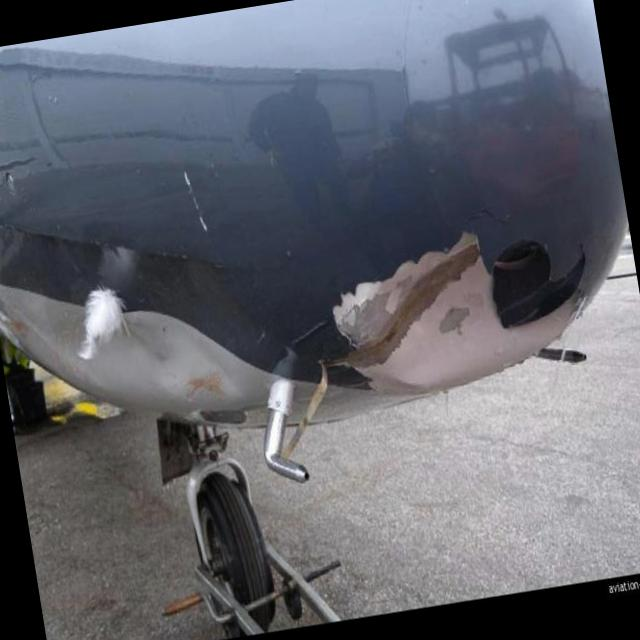crack: (456, 196, 514, 239)
dent: (363, 262, 502, 398), (123, 304, 250, 416)
